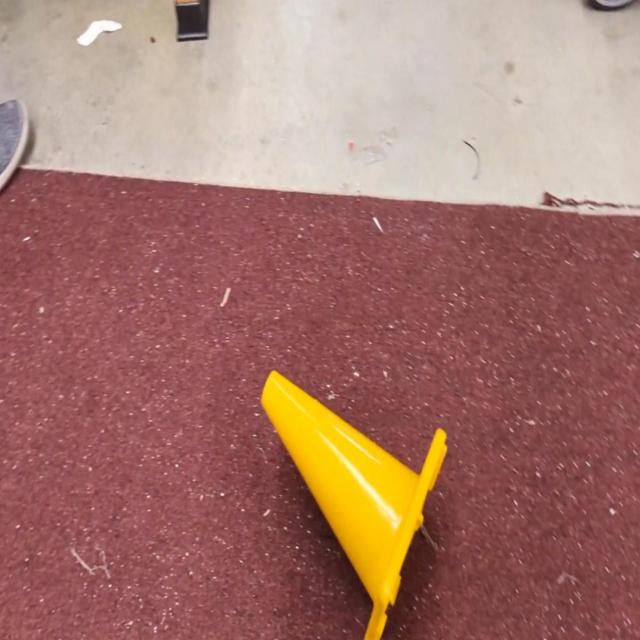frc_cone: (261, 368, 447, 640)
